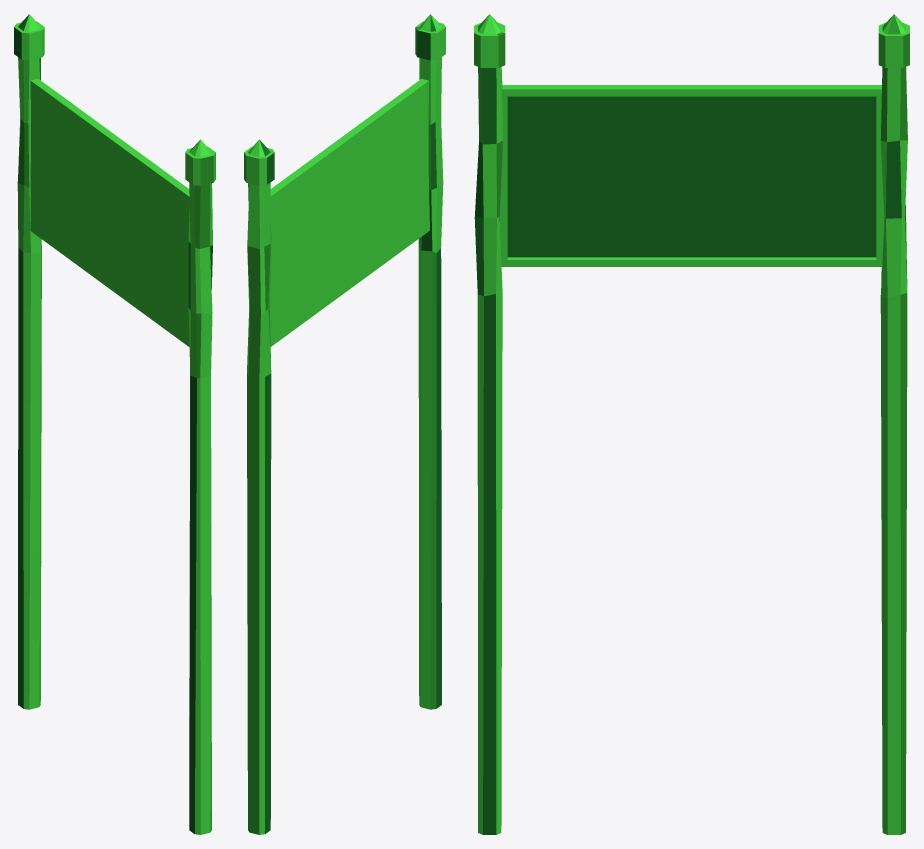
File: Board.fbx
3 renders of one model, left to right at view 1: azimuth 30°, elevation 25°; view 2: azimuth 150°, elevation 25°; view 3: azimuth 270°, elevation 25°, orthographic. The views are drawn at different scales.
Parts seen in each view (by area): view 1: Board; view 2: Board; view 3: Board.
Boxes of the visible parts, x1=… form: Board: x1=14, y1=14, x2=215, y2=834; Board: x1=244, y1=14, x2=445, y2=834; Board: x1=474, y1=14, x2=909, y2=834.
Bounding box in the file's own units: 0.0948 × 2.72 × 1.32.
